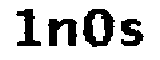0: (83, 4, 115, 51)
1: (14, 8, 45, 49)
n: (48, 17, 81, 49)
s: (119, 18, 147, 49)
